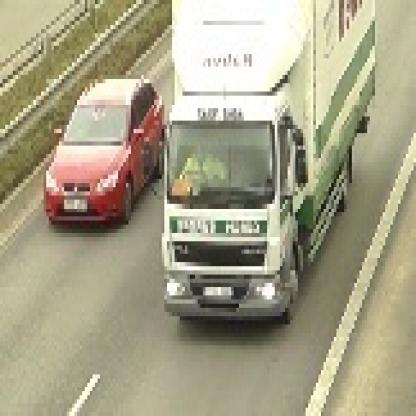truck: (161, 1, 374, 317)
